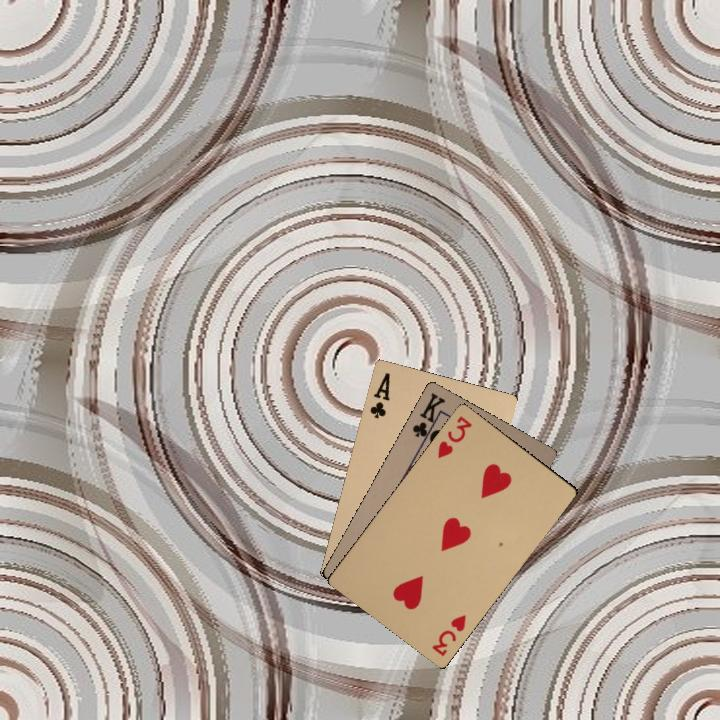3h: (433, 412, 475, 461), (428, 610, 469, 659)
Ac: (366, 369, 393, 421)
Kc: (408, 389, 448, 446)
